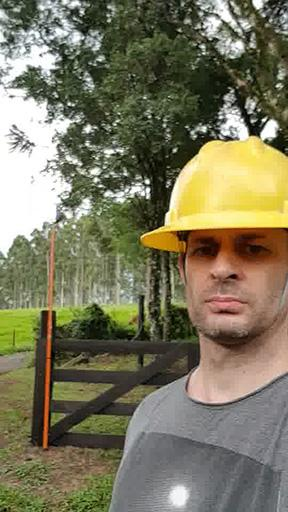Vara_Manobra: (41, 226, 56, 449)
